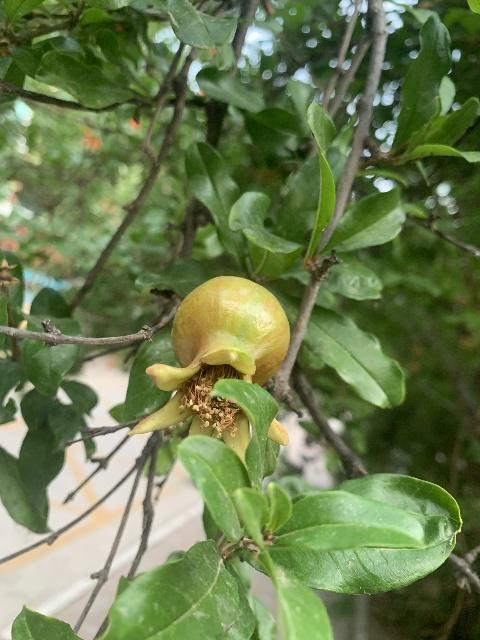mid-growth: (129, 274, 291, 472)
